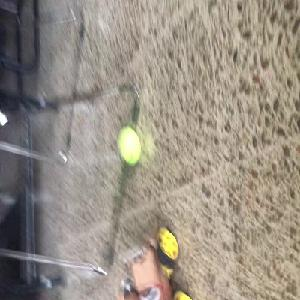Ball: (118, 128, 140, 165)
Robot: (116, 228, 193, 299)
